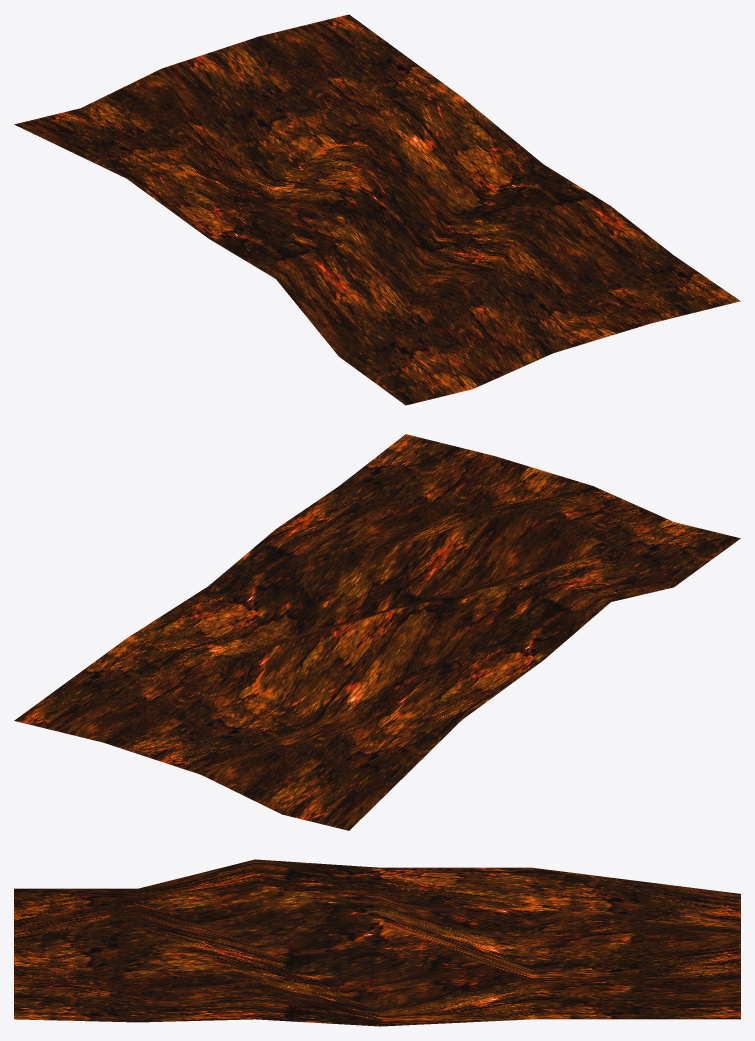
File: yangjiang01.fbx
The picture shows the model from 3 angles, top to bottom: view 1: azimuth 30°, elevation 25°; view 2: azimuth 150°, elevation 25°; view 3: azimuth 270°, elevation 25°; orthographic projection. The views are drawn at different scales.
Visible parts, largest first — view 1: yangjiang01; view 2: yangjiang01; view 3: yangjiang01.
Boxes of the visible parts, bbox=[...] form: yangjiang01: bbox=[14, 14, 740, 405]; yangjiang01: bbox=[14, 434, 740, 830]; yangjiang01: bbox=[14, 859, 740, 1026].
Bounding box in the file's own units: 13.52 × 2.16 × 27.36.
